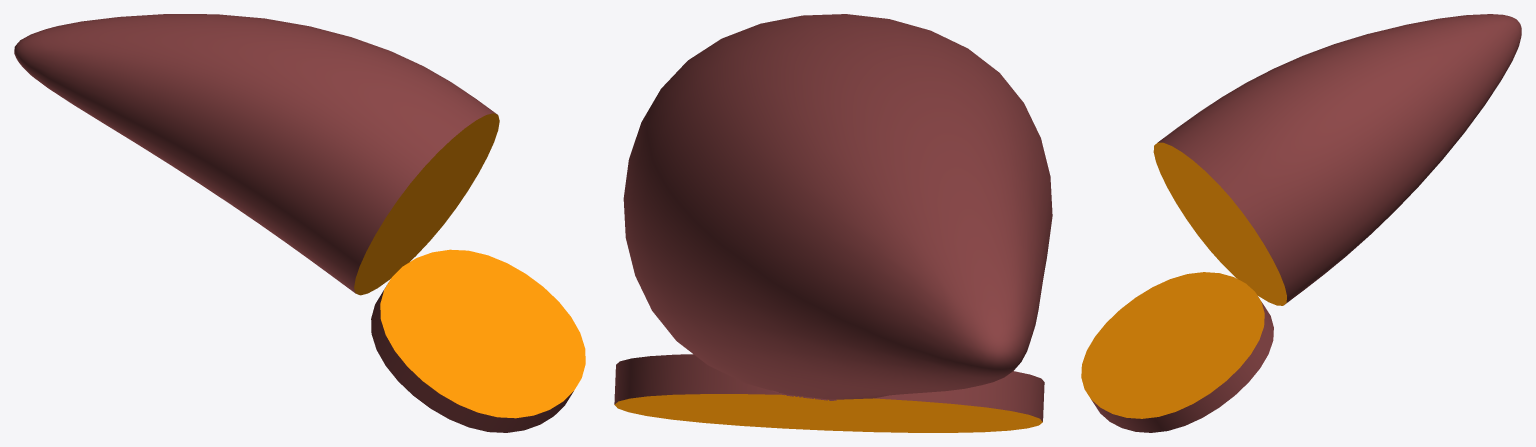
Rendered from roasted_sweet_potato.gltf.
3 views of the same model, side by side, from view 1: azimuth 30°, elevation 25°; view 2: azimuth 150°, elevation 25°; view 3: azimuth 270°, elevation 25° (orthographic). The views are drawn at different scales.
Visible parts, largest first — view 1: Cube.424; view 2: Cube.424; view 3: Cube.424.
Part boxes in pixels (x1,y1,x2,y2): Cube.424: [14, 14, 585, 432]; Cube.424: [614, 14, 1052, 432]; Cube.424: [1081, 14, 1521, 432].
Size of the model in its own units: 2.39 by 1.94 by 2.6.
Materials: 1 (1 with a texture image).
